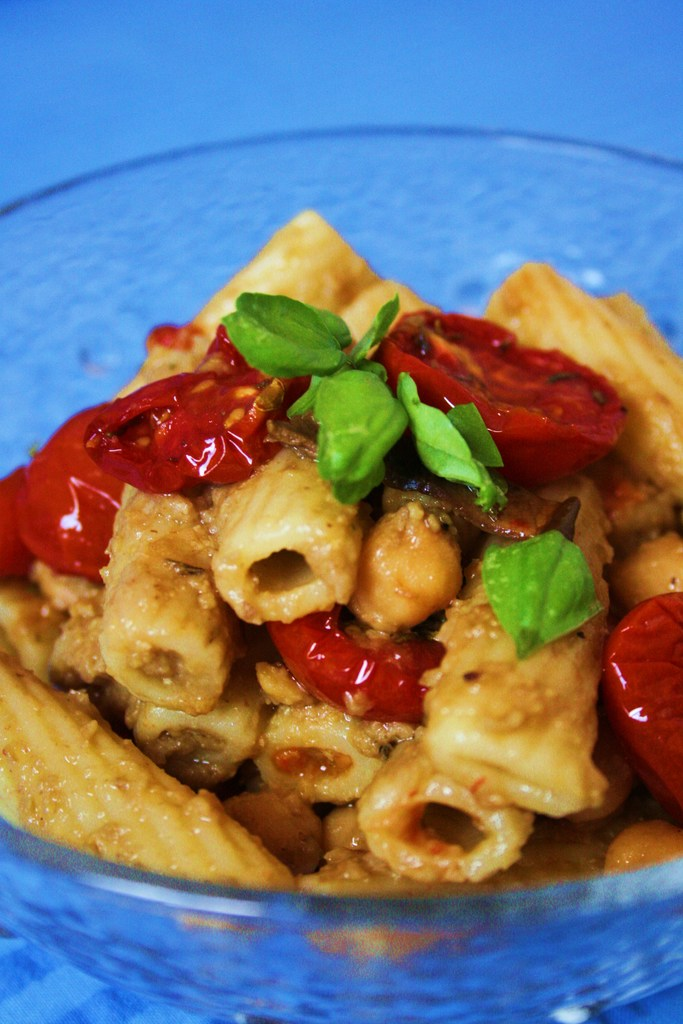pasta: (0, 167, 683, 909)
